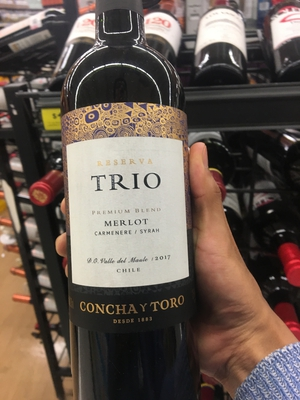trio merlot: (48, 21, 218, 398)
